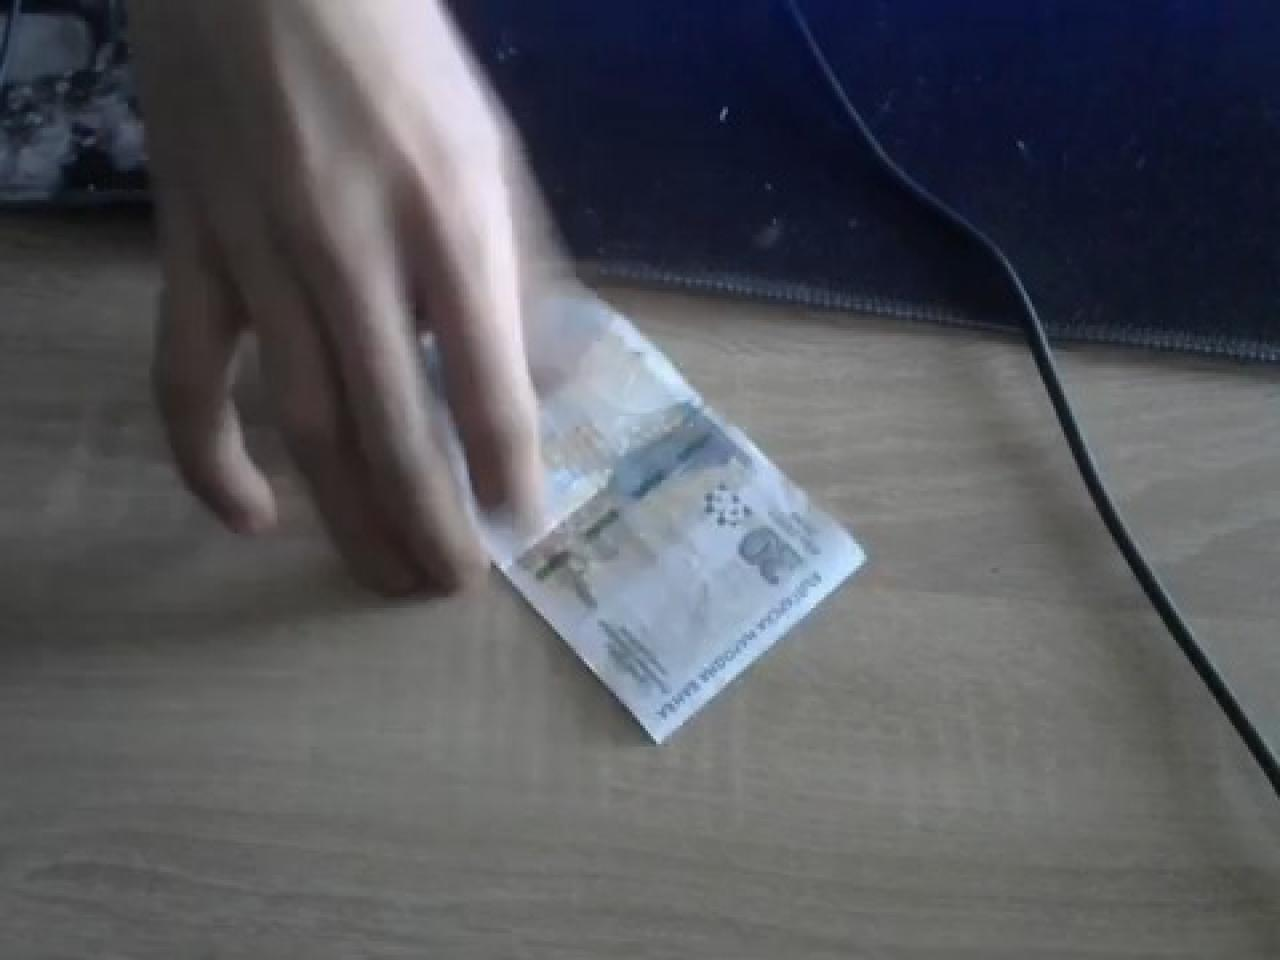20leva: (493, 277, 870, 746)
